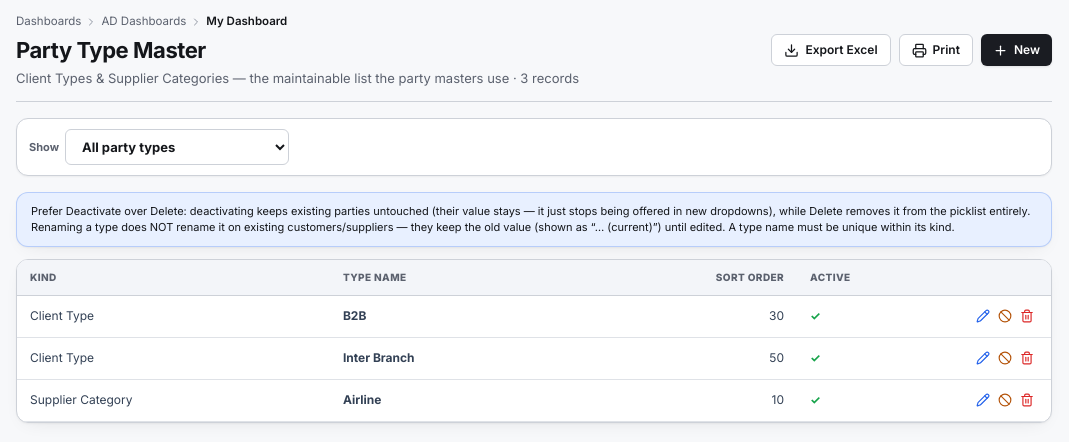
it: Party Type Master — Client Types + Supplier Categories › the Kind filter narrows to one vocabulary
The width and height of the screenshot is (1069, 442).
Step 1. Select "supplier" in the dropdown → point(177, 147), box [65, 129, 289, 165]
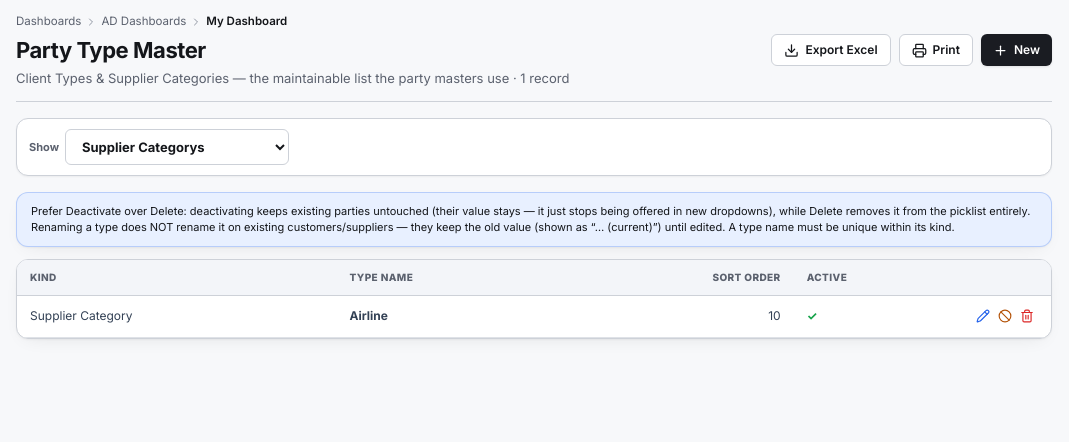
Expected: the text "Airline" is shown, [336, 295, 559, 337]
Expected: the text "B2B" is gone
Expected: the text "Inter Branch" is gone
